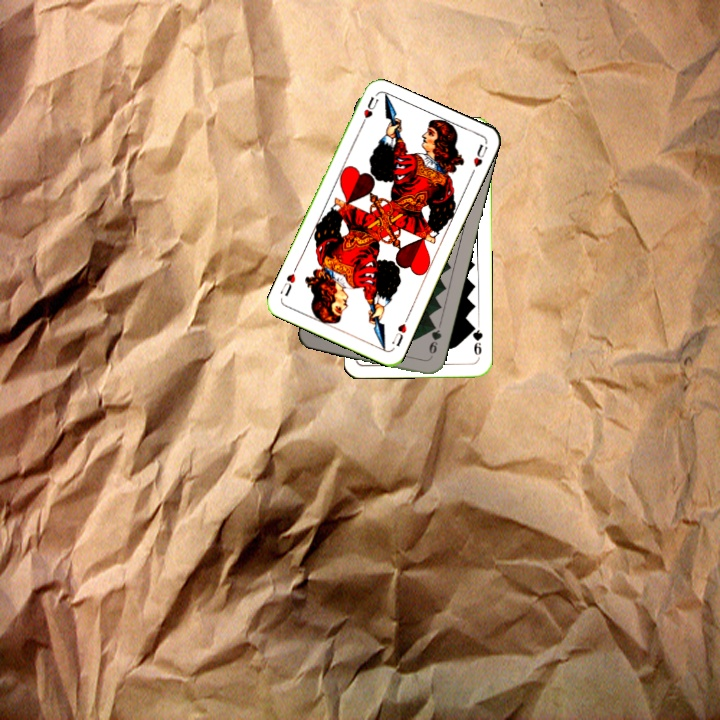G9: (425, 320, 444, 361), (468, 321, 485, 361)
HU: (356, 92, 381, 130), (388, 313, 411, 349)
